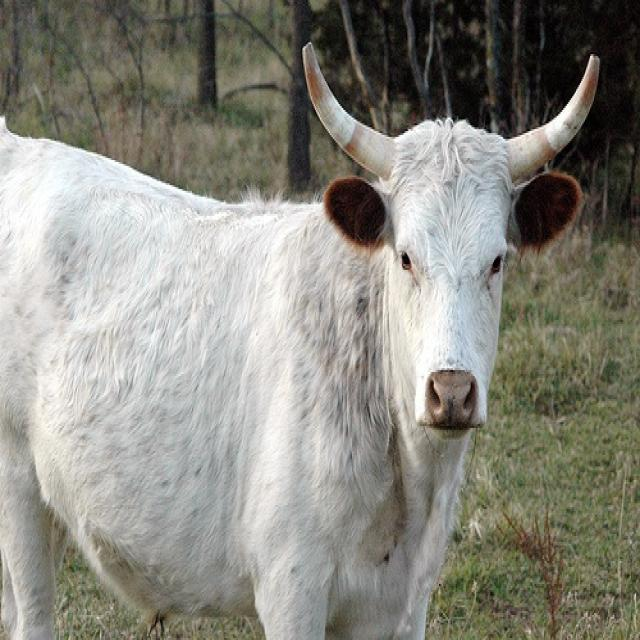cow: (1, 57, 601, 639)
